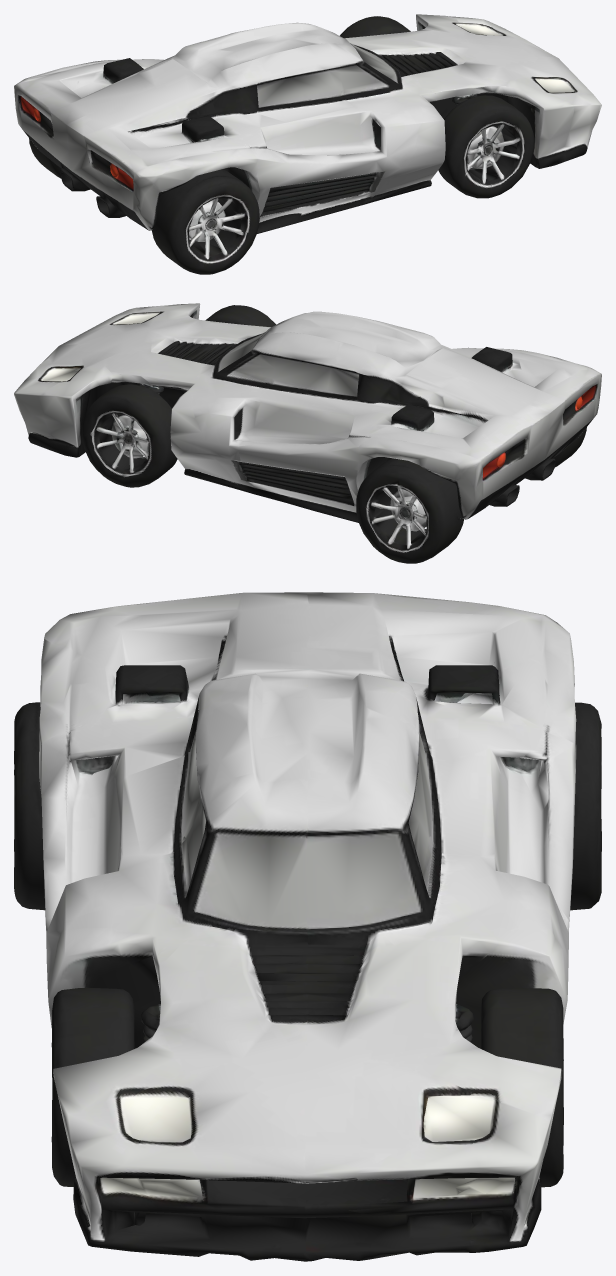
File: car9.glb
3 renders of one model, top to bottom at view 1: azimuth 30°, elevation 25°; view 2: azimuth 150°, elevation 25°; view 3: azimuth 270°, elevation 25°, orthographic. The views are drawn at different scales.
Visible parts, largest first — view 1: tripo_node_7da7455f-e303-46a7-8492-a1b6d580ad5b; view 2: tripo_node_7da7455f-e303-46a7-8492-a1b6d580ad5b; view 3: tripo_node_7da7455f-e303-46a7-8492-a1b6d580ad5b.
Boxes of the visible parts, bbox=[...] form: tripo_node_7da7455f-e303-46a7-8492-a1b6d580ad5b: bbox=[14, 14, 601, 274]; tripo_node_7da7455f-e303-46a7-8492-a1b6d580ad5b: bbox=[14, 303, 601, 563]; tripo_node_7da7455f-e303-46a7-8492-a1b6d580ad5b: bbox=[14, 592, 601, 1261].
Bounding box in the file's own units: 0.9996 × 0.2966 × 0.5209.
Materials: 1 (1 with a texture image).
